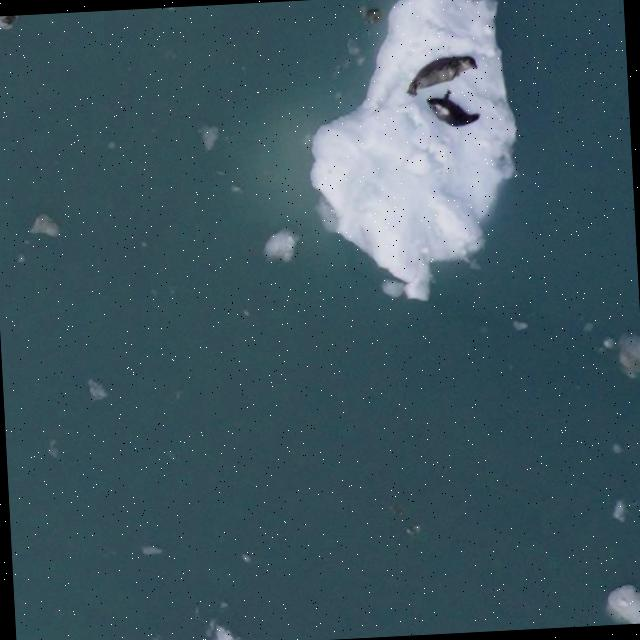seal: (398, 47, 478, 99), (422, 86, 481, 137)
